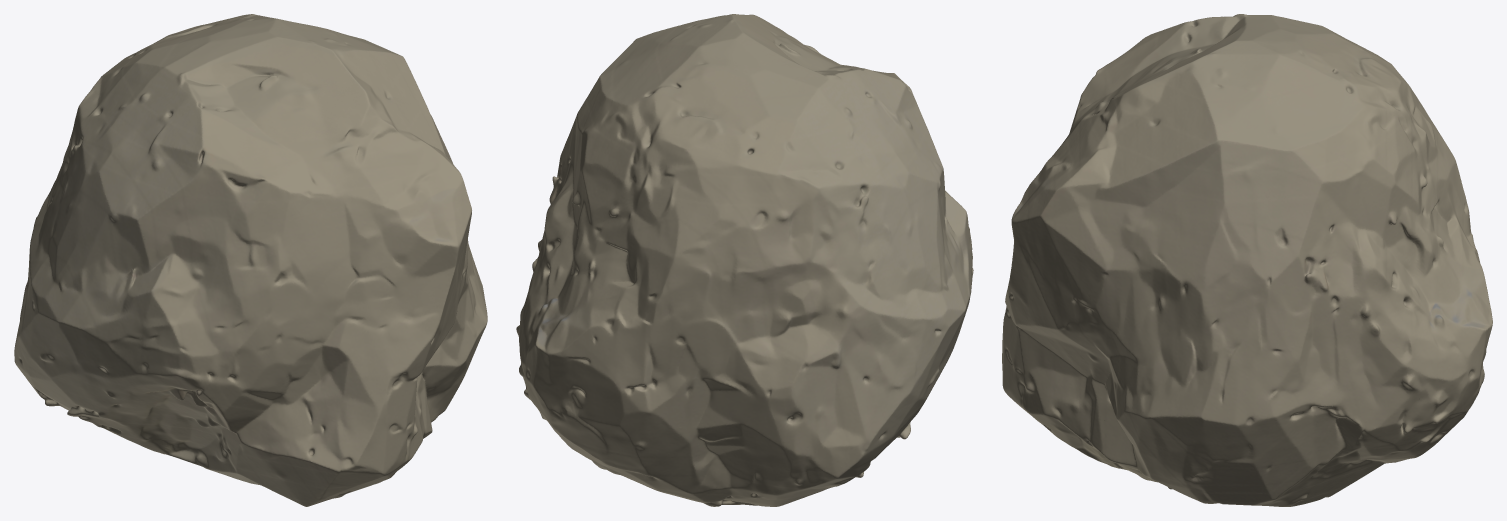
Rendered from tripo_convert_96865c70-5c26-475b-afe6-e32ca3c19db6.fbx.
The picture shows the model from 3 angles, left to right: view 1: azimuth 30°, elevation 25°; view 2: azimuth 150°, elevation 25°; view 3: azimuth 270°, elevation 25°; orthographic projection.
Parts seen in each view (by area): view 1: tripo_node_96865c70; view 2: tripo_node_96865c70; view 3: tripo_node_96865c70.
Part boxes in pixels (left/top/right/bottom): tripo_node_96865c70: left=14, top=14, right=487, bottom=506; tripo_node_96865c70: left=516, top=14, right=973, bottom=506; tripo_node_96865c70: left=1002, top=14, right=1492, bottom=506.
Size of the model in its own units: 0.9759 by 0.986 by 1.
Materials: 1 (1 with a texture image).
